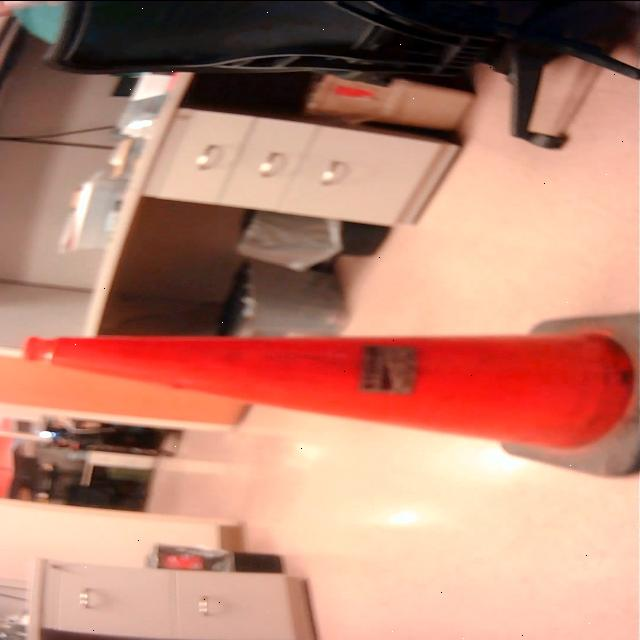traffic cone: (17, 304, 640, 484)
